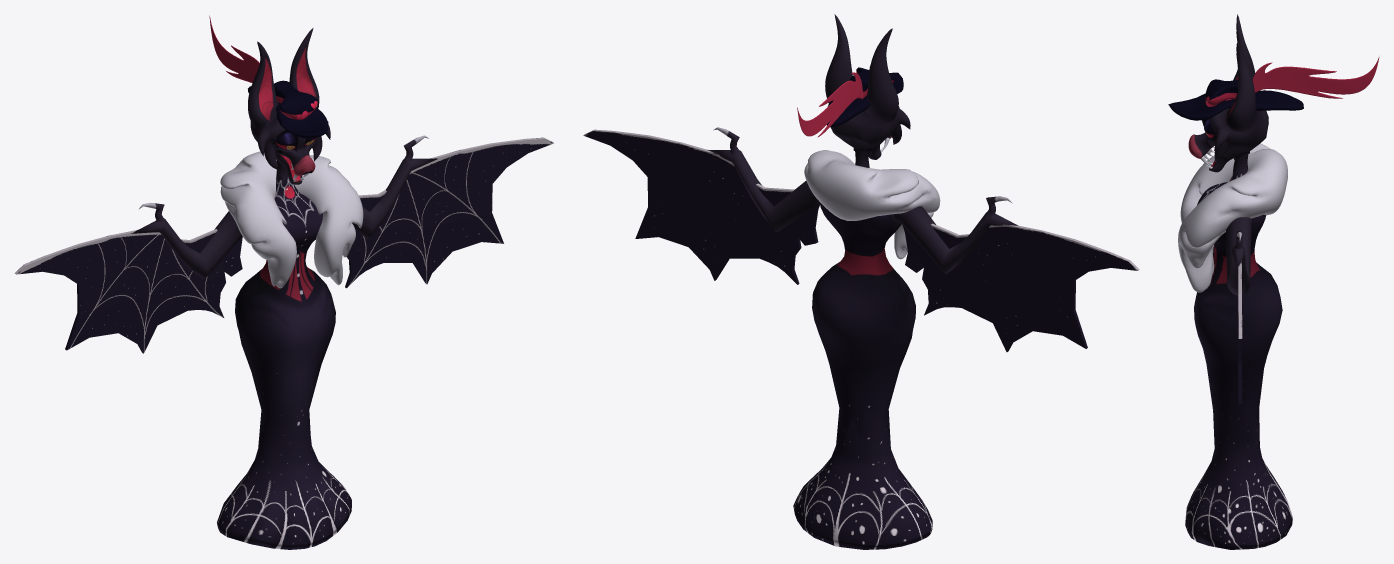
File: Bat_MESH.fbx
3 renders of one model, left to right at view 1: azimuth 30°, elevation 25°; view 2: azimuth 150°, elevation 25°; view 3: azimuth 270°, elevation 25°, orthographic. The views are drawn at different scales.
Parts seen in each view (by area): view 1: Body, WingWeb, Fluff, Hat, Feather; view 2: Body, WingWeb, Fluff, Feather, Hat; view 3: Body, Fluff, Feather, Hat, WingWeb.
Part boxes in pixels (bbox=[...]): Body: bbox=[131, 28, 437, 549]; WingWeb: bbox=[14, 137, 553, 353]; Fluff: bbox=[220, 151, 363, 288]; Hat: bbox=[248, 80, 328, 138]; Feather: bbox=[209, 15, 259, 82]; Body: bbox=[708, 14, 1017, 549]; WingWeb: bbox=[583, 129, 1139, 352]; Fluff: bbox=[804, 150, 940, 259]; Feather: bbox=[797, 72, 863, 137]; Hat: bbox=[827, 67, 903, 126]; Body: bbox=[1185, 14, 1292, 549]; Fluff: bbox=[1178, 143, 1287, 292]; Feather: bbox=[1252, 57, 1379, 98]; Hat: bbox=[1168, 79, 1303, 120]; WingWeb: bbox=[1238, 261, 1242, 403].
Bounding box in the file's own units: 619 × 544 × 208.
6 materials, 6 textured.
